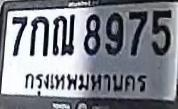5: (151, 9, 171, 55)
7: (128, 10, 147, 54), (12, 16, 27, 56)
8: (83, 13, 100, 55)
9: (105, 12, 122, 54)
A01: (29, 15, 48, 56)
A19: (52, 13, 74, 55)
BKK: (22, 69, 149, 98)
